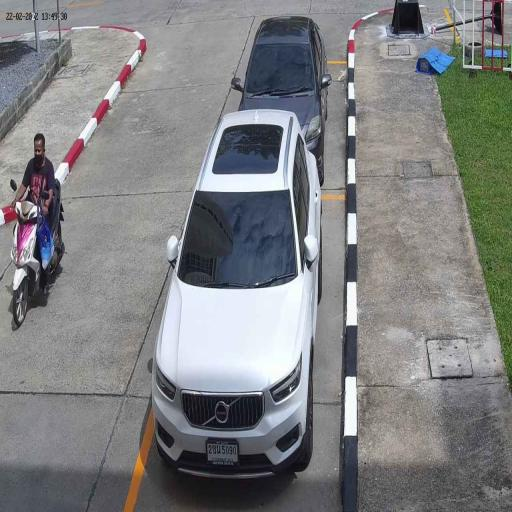car: (152, 110, 322, 480), (232, 14, 329, 182)
motorcycle: (11, 200, 66, 326)
